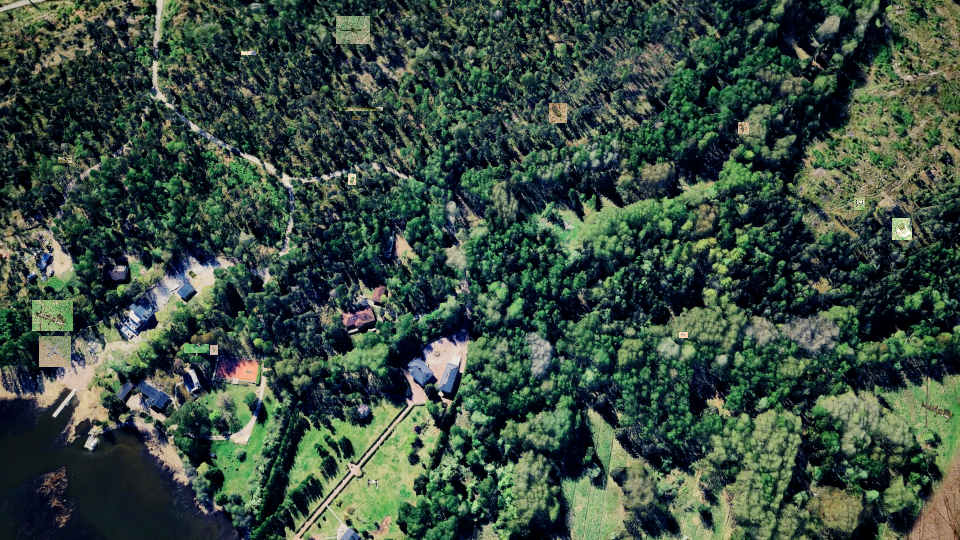condor: (39, 336, 71, 367)
hangar: (329, 107, 383, 111)
helicopter: (336, 16, 370, 44)
jammer: (348, 174, 356, 185)
jet_plane: (184, 344, 209, 353)
large_launcher: (32, 300, 73, 331)
large_tower: (58, 157, 72, 163)
medium_launcher: (352, 116, 361, 120)
medium_plane: (892, 6, 907, 14)
mine_roller: (549, 103, 567, 123)
small_launcher: (210, 345, 218, 355)
small_plane: (738, 122, 749, 134)
small_tower: (892, 218, 912, 240)
spacecraft: (854, 198, 865, 210)
ta-ta: (679, 332, 688, 338)
tank: (241, 51, 256, 55)
